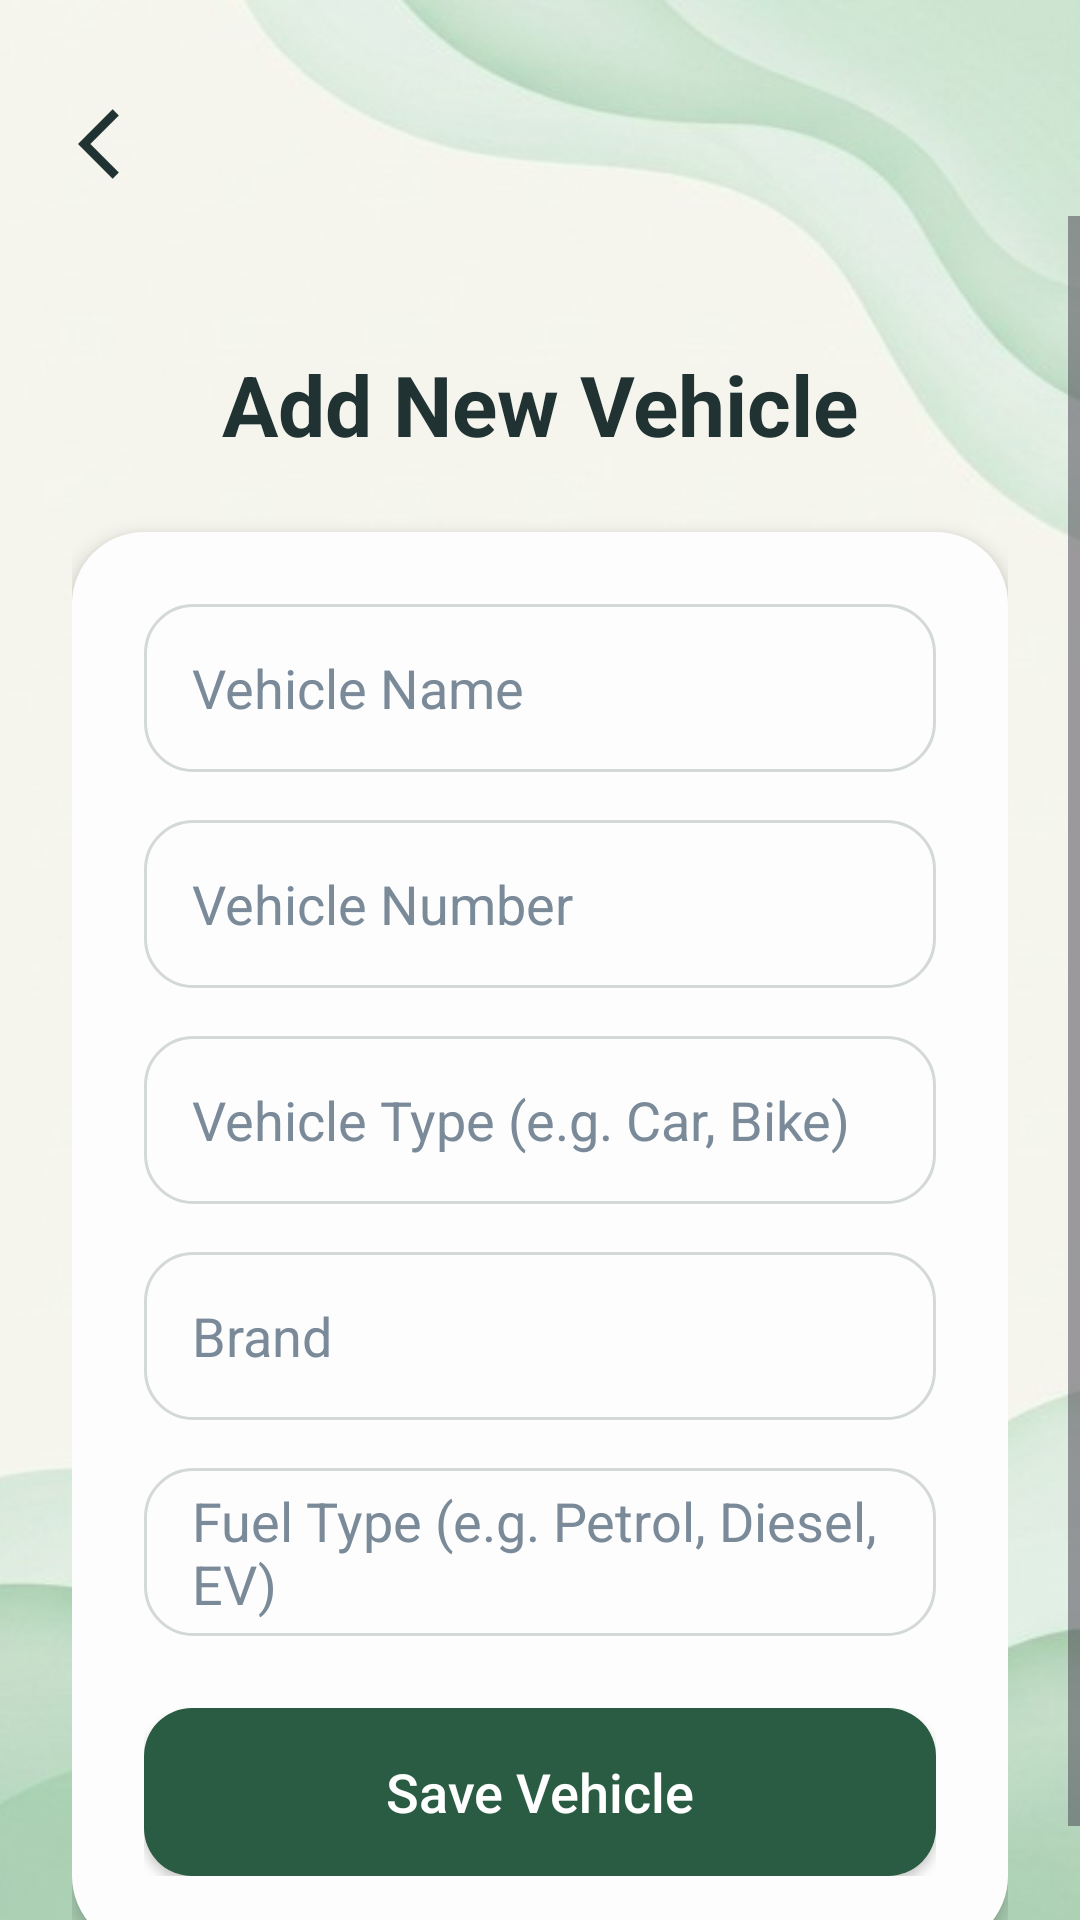

Where icons sit on this 1080 x 1920 app screen, as (x1, y1, x2, y2):
Back to Home: (78, 109, 119, 179)
